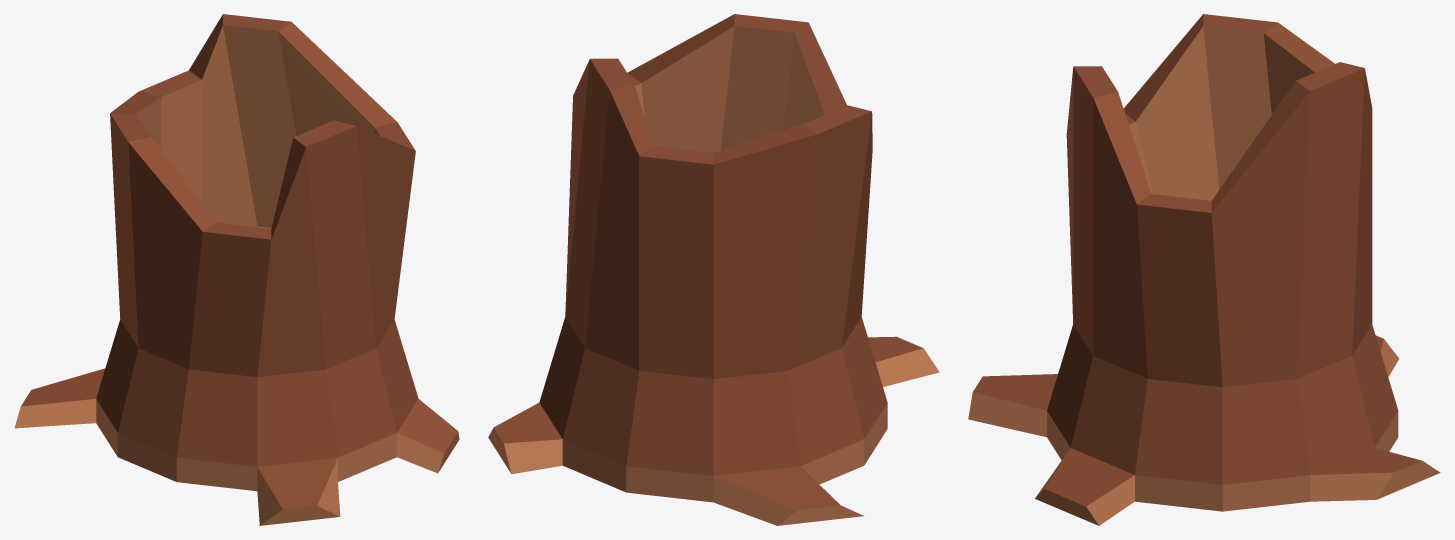
Rendered from MEIO2.fbx.
3 views of the same model, side by side, from view 1: azimuth 30°, elevation 25°; view 2: azimuth 150°, elevation 25°; view 3: azimuth 270°, elevation 25° (orthographic). The views are drawn at different scales.
Visible parts, largest first — view 1: Cylinder; view 2: Cylinder; view 3: Cylinder.
Boxes of the visible parts, left/top/right/bottom form: Cylinder: left=14, top=14, right=459, bottom=525; Cylinder: left=488, top=14, right=939, bottom=525; Cylinder: left=968, top=14, right=1440, bottom=525.
Size of the model in its own units: 146 by 151 by 163.
